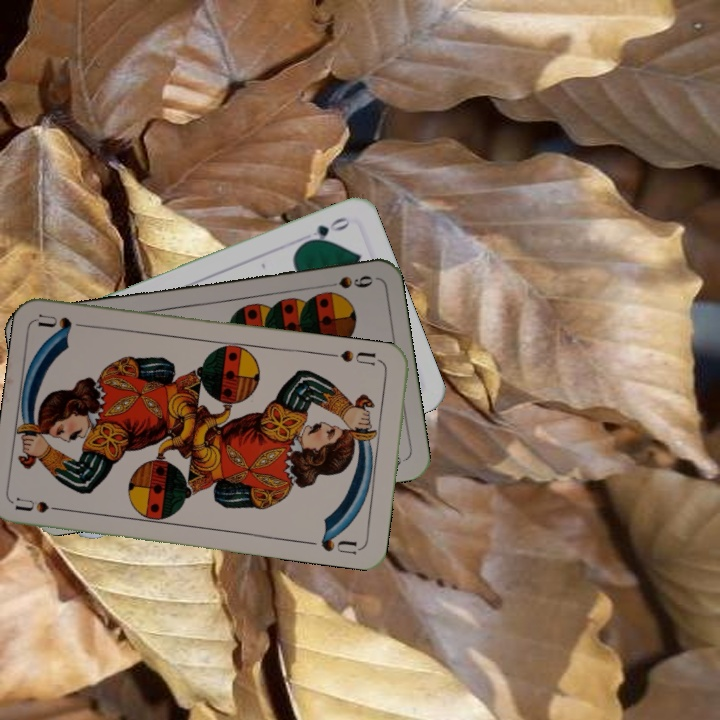GO: (298, 213, 353, 247)
S9: (331, 271, 375, 291)
SU: (326, 345, 385, 368), (13, 494, 73, 515)
